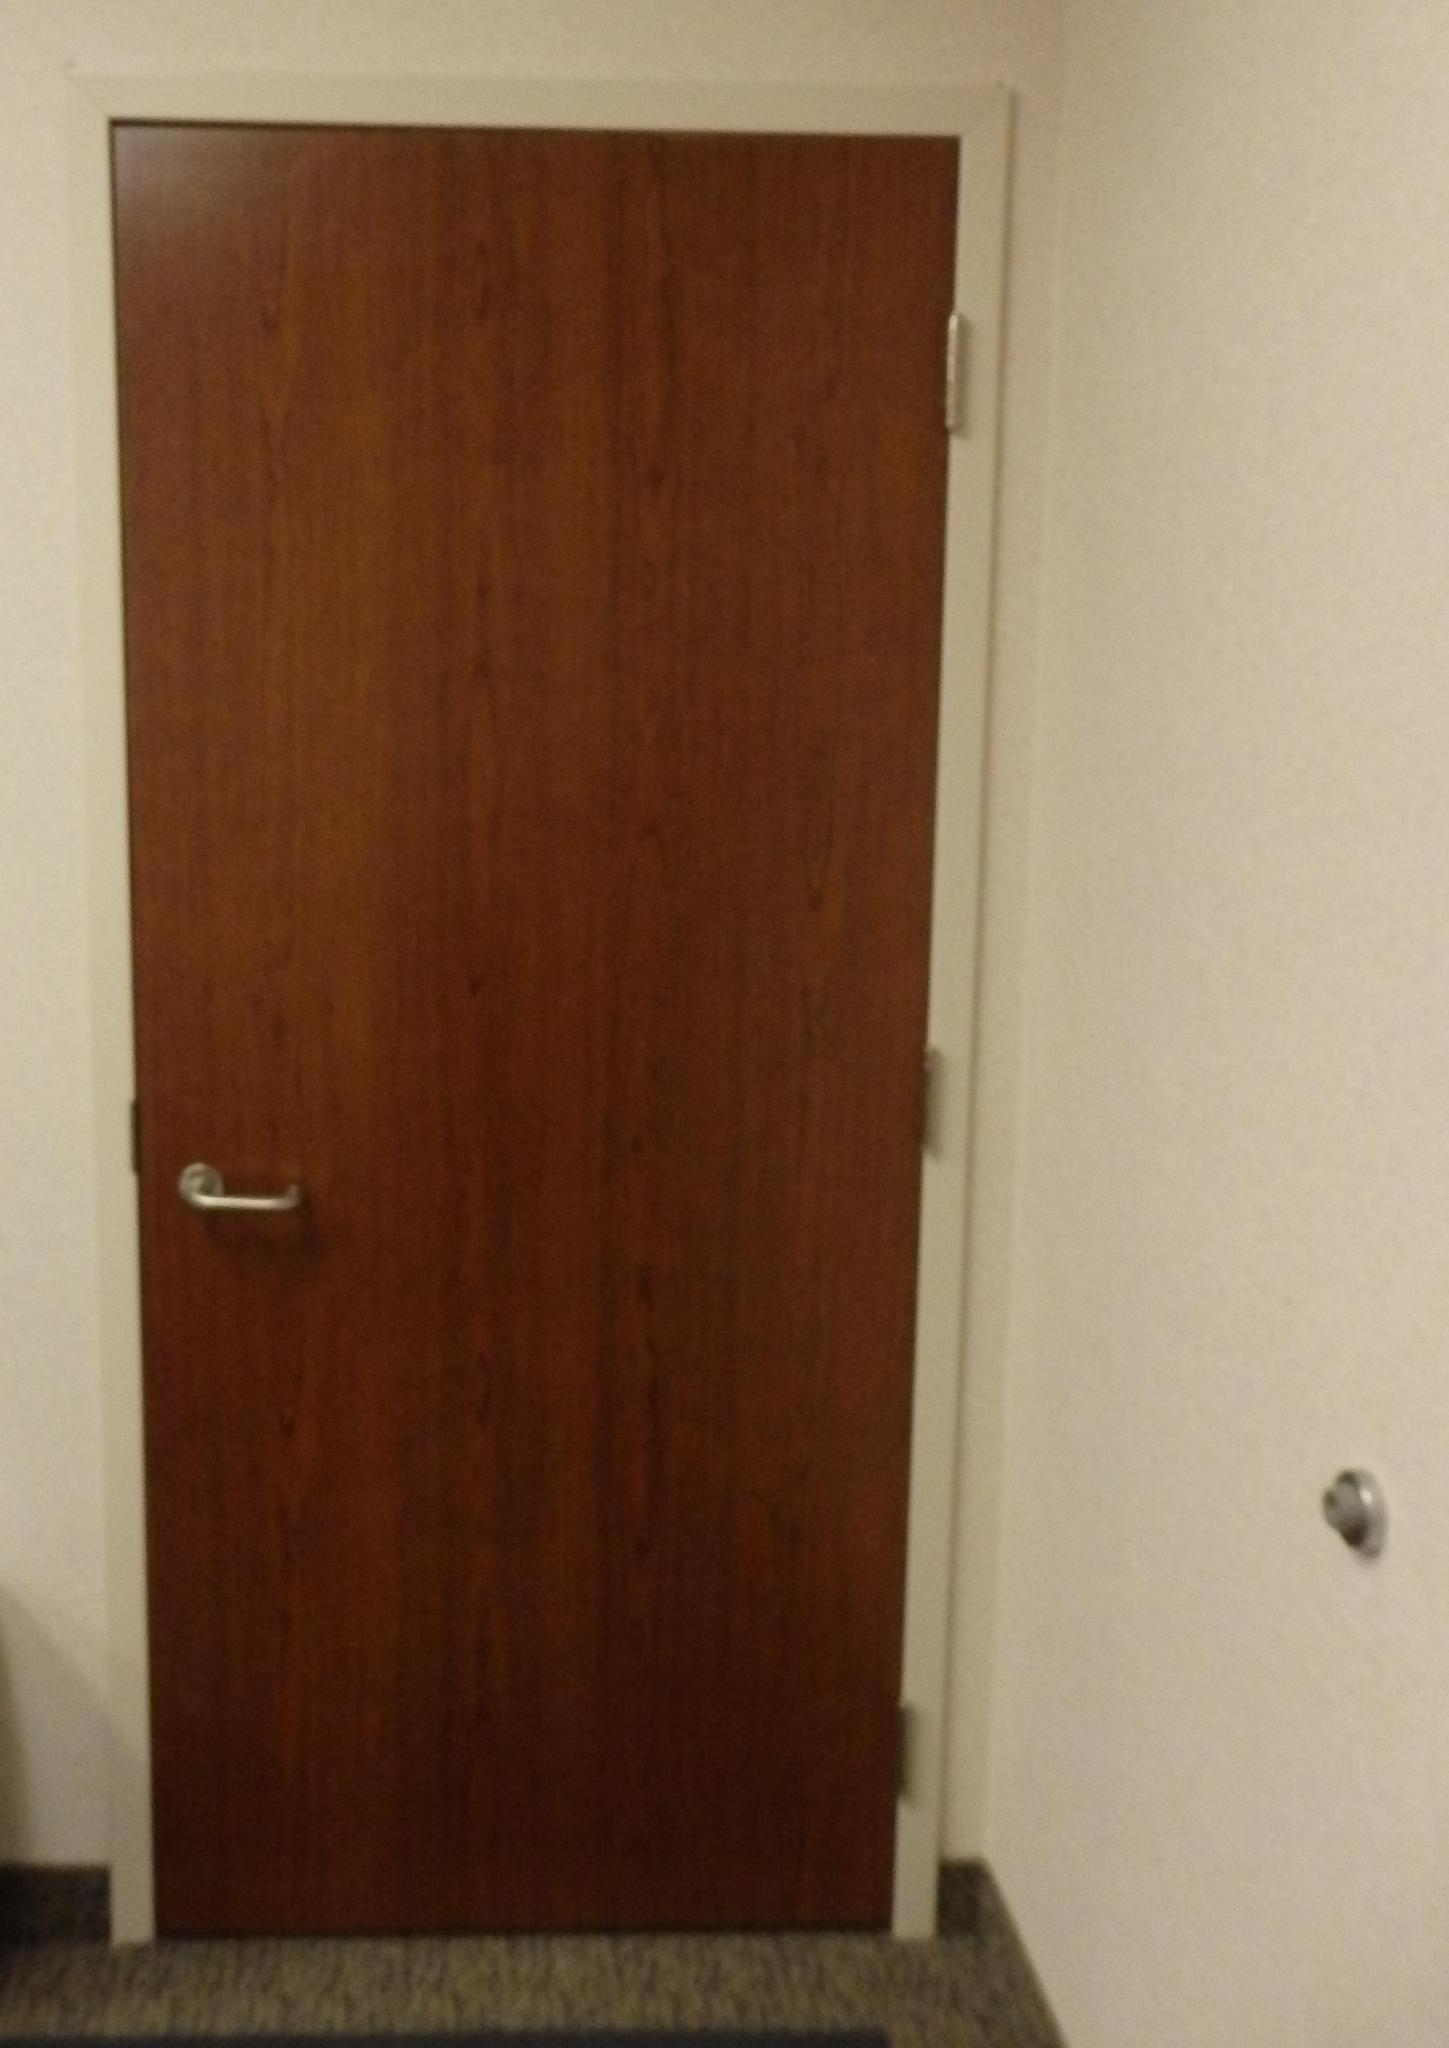door: (151, 174, 946, 1888)
handle: (171, 1140, 301, 1265)
